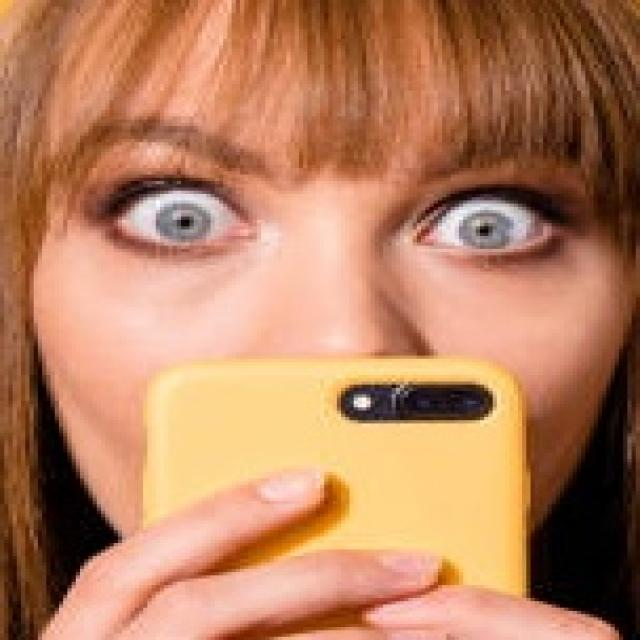Anxiety: (19, 11, 640, 629)
